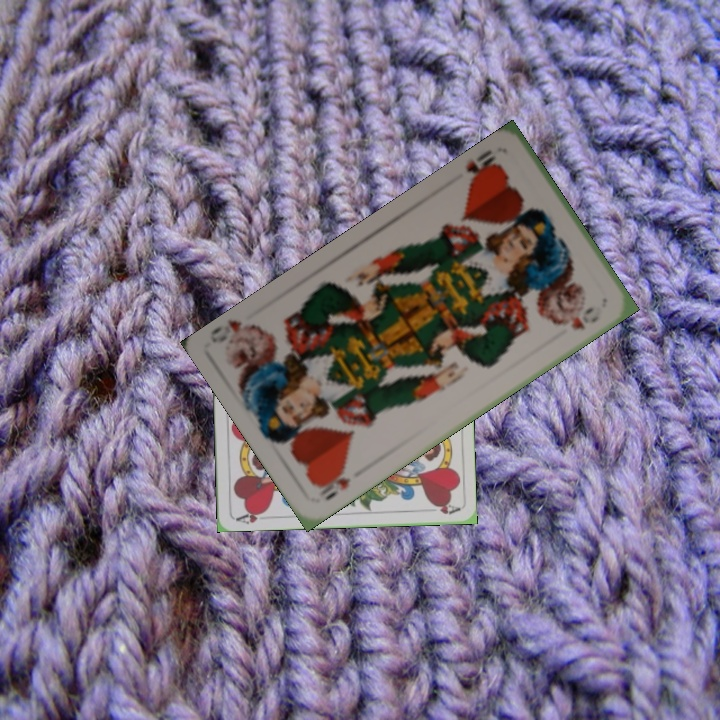HA: (232, 506, 270, 526)
HO: (461, 145, 504, 189), (314, 463, 354, 504)
